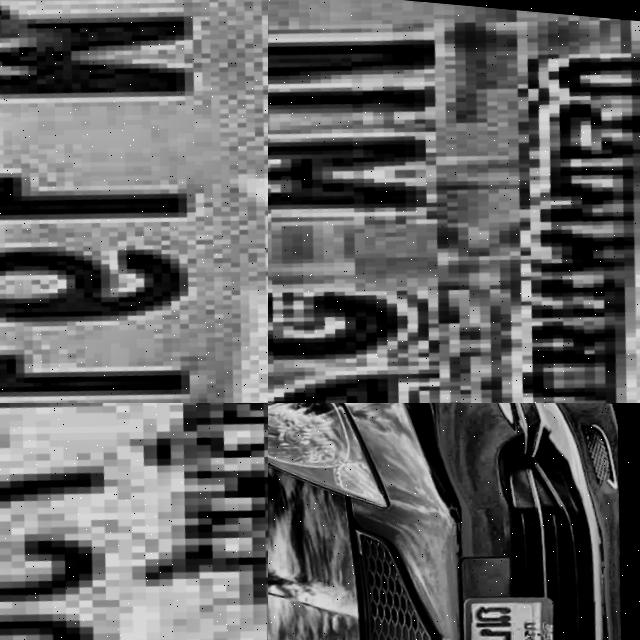license-plate: (268, 0, 640, 403), (0, 0, 268, 403), (0, 403, 268, 640), (453, 577, 571, 640)
